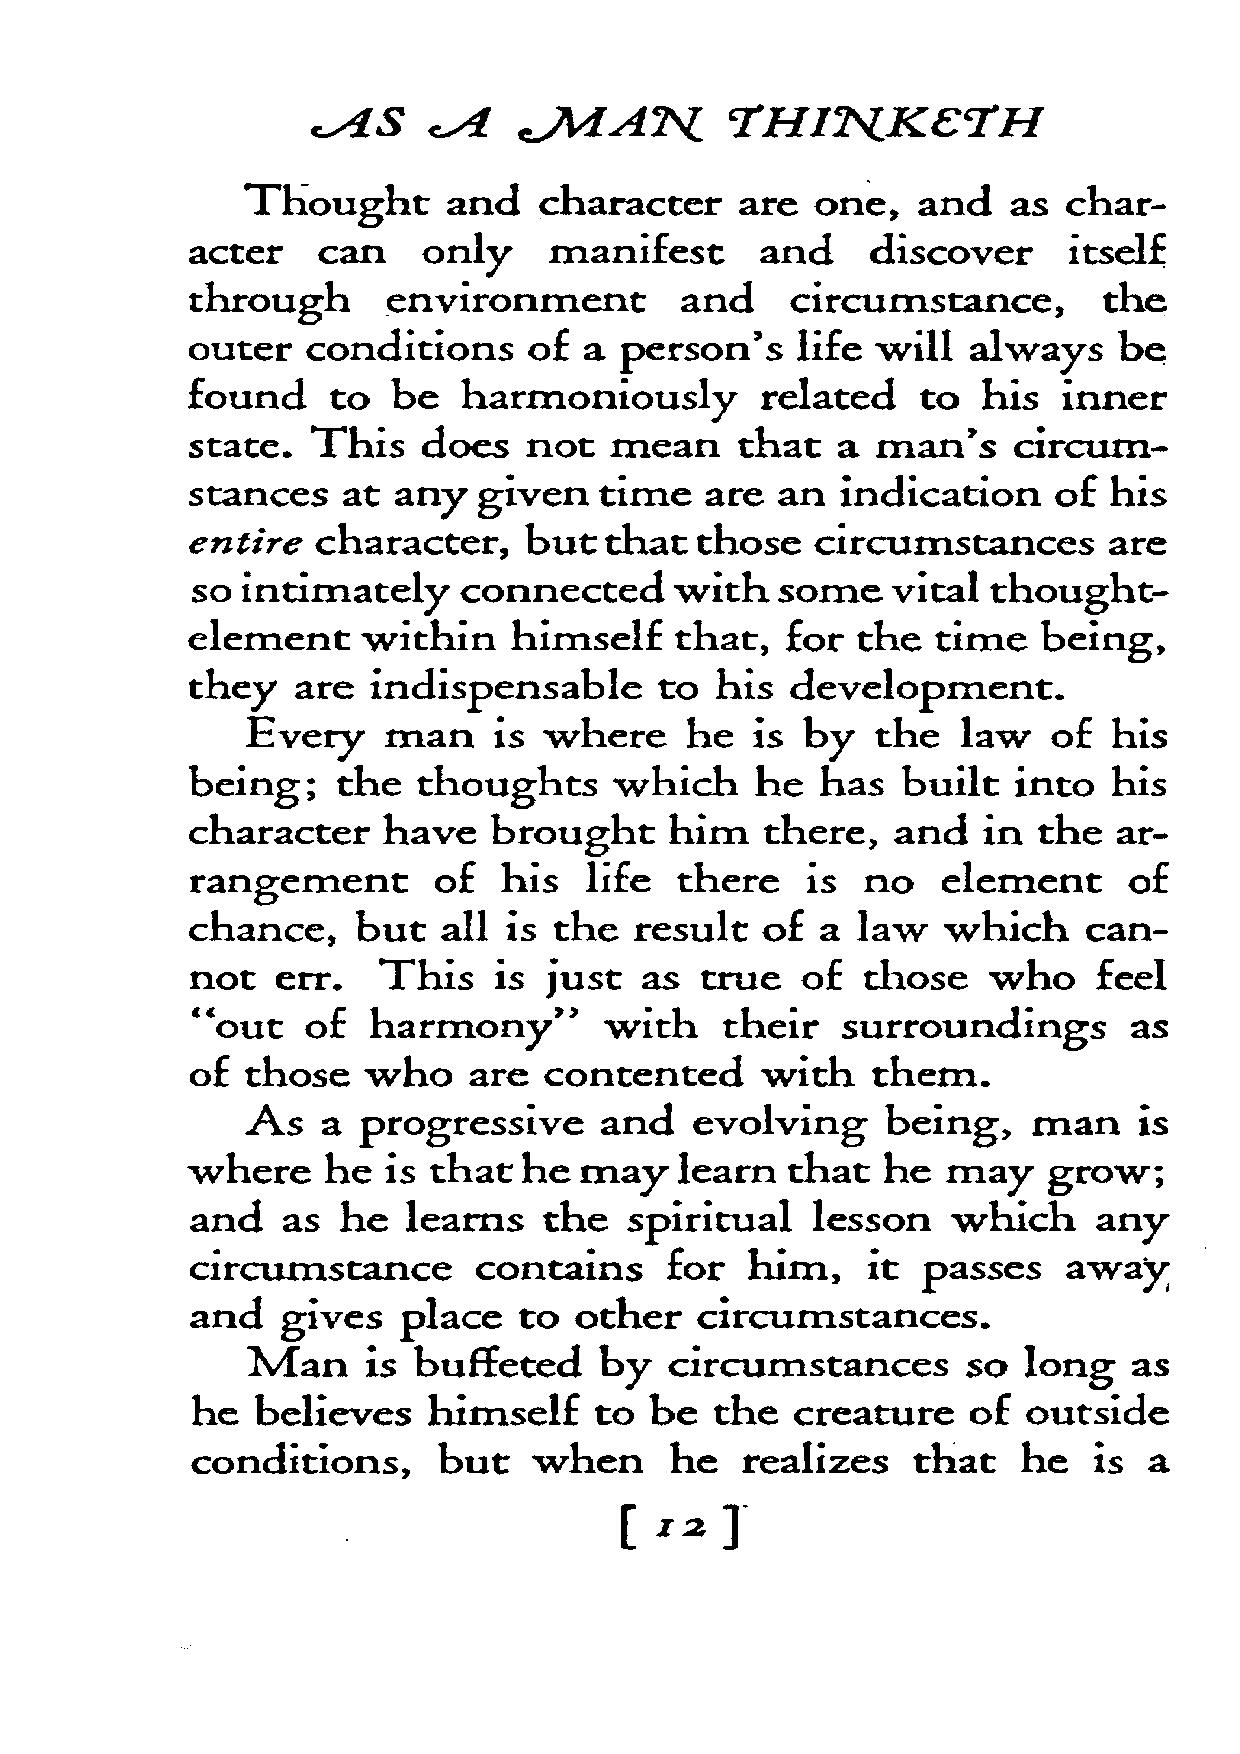chapter: (309, 95, 1045, 144)
content: (181, 178, 1174, 1482)
content_pagenumber: (650, 1516, 711, 1541)
